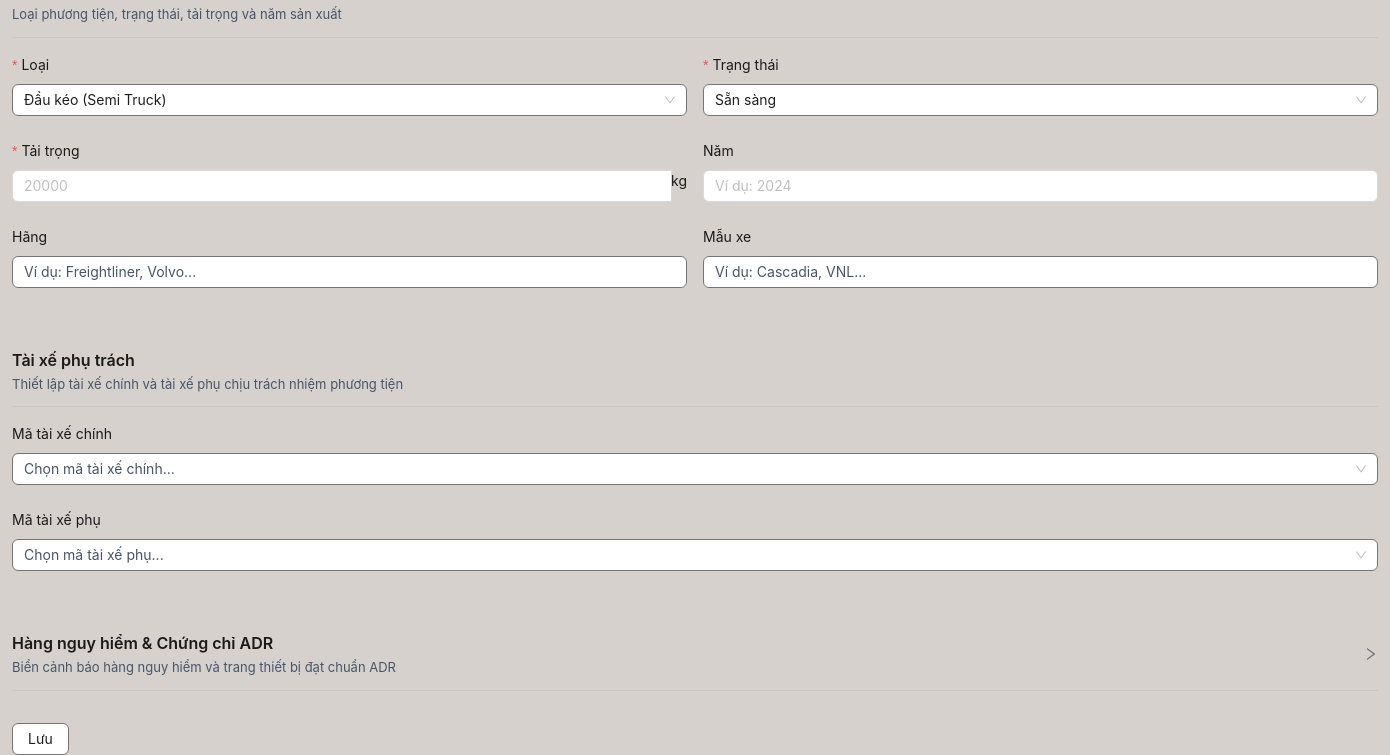
Test: ResourceFormFields — Truck Sections & Conditional Logic › chỉ hiển thị ô chi tiết ADR khi bật công tắc chứng chỉ ADR
(page scrolled)
Expected: the field labelled "Lớp ADR cho phép" is not shown
Expected: the field labelled "Số biển cam ADR" is not shown
Click the button "Hàng nguy hiểm & Chứng chỉ ADR".
click(143, 643)  # box [12,627,1378,682]
(page scrolled)
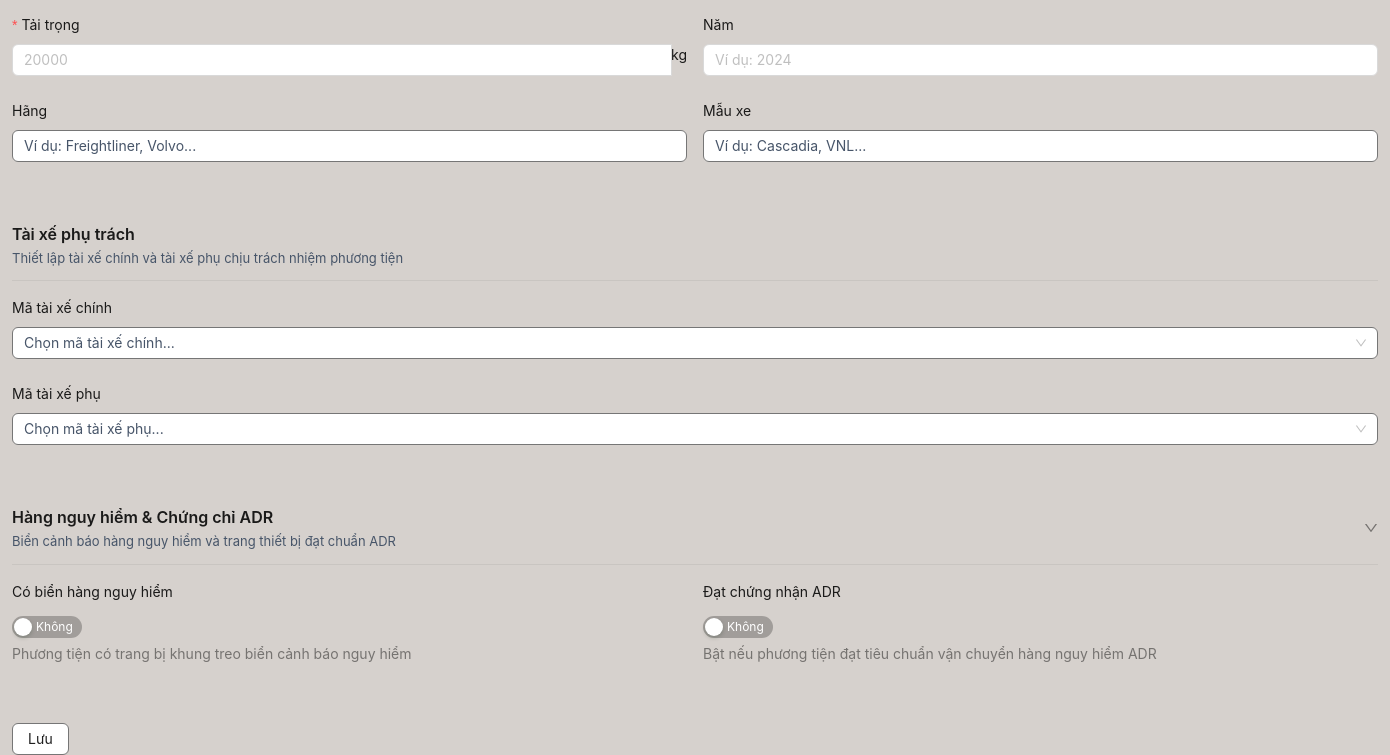
// Bật công tắc ADR (switch thứ 2 trong form)
Click the switch labelled "Có Không" below "Đạt chứng nhận ADR".
click(738, 627)  # box [703,616,773,638]
(page scrolled)
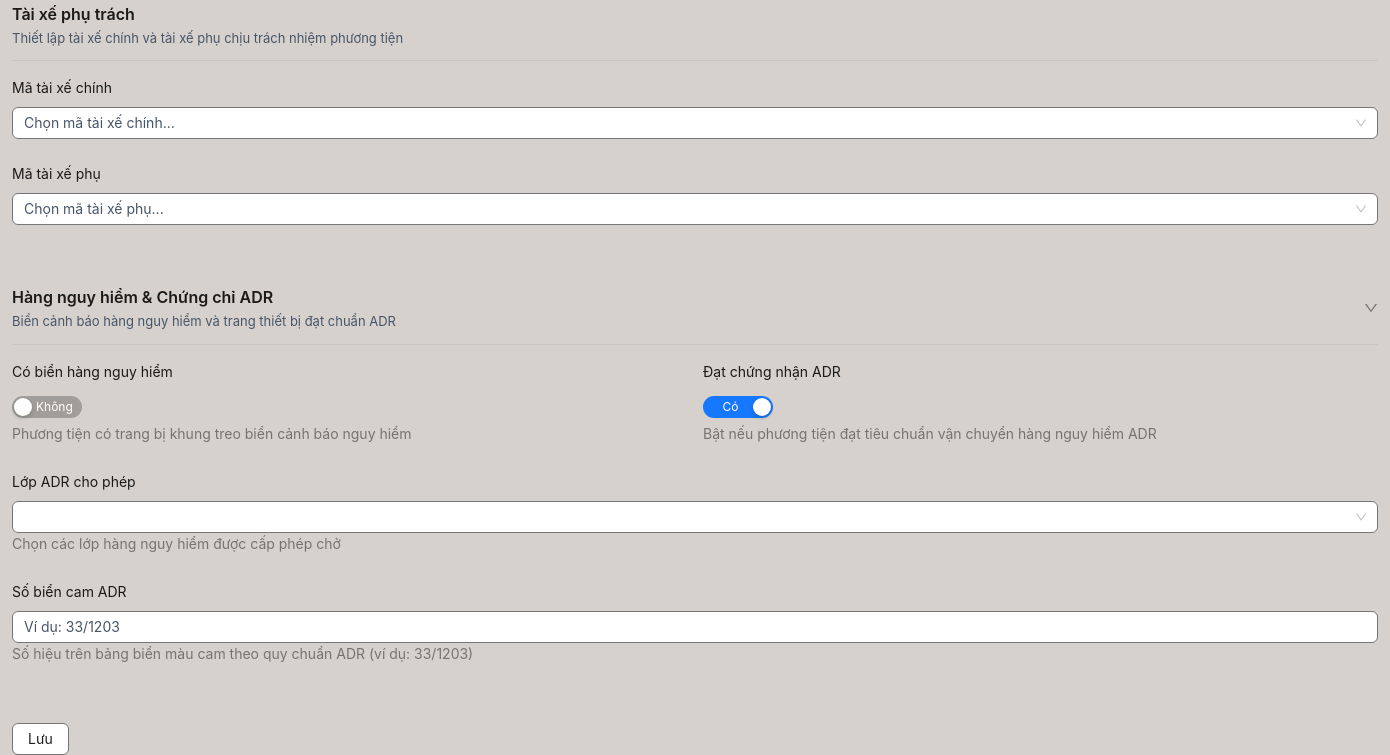
Now the field labelled "Số biển cam ADR" is shown, box [12,611,1378,643]
